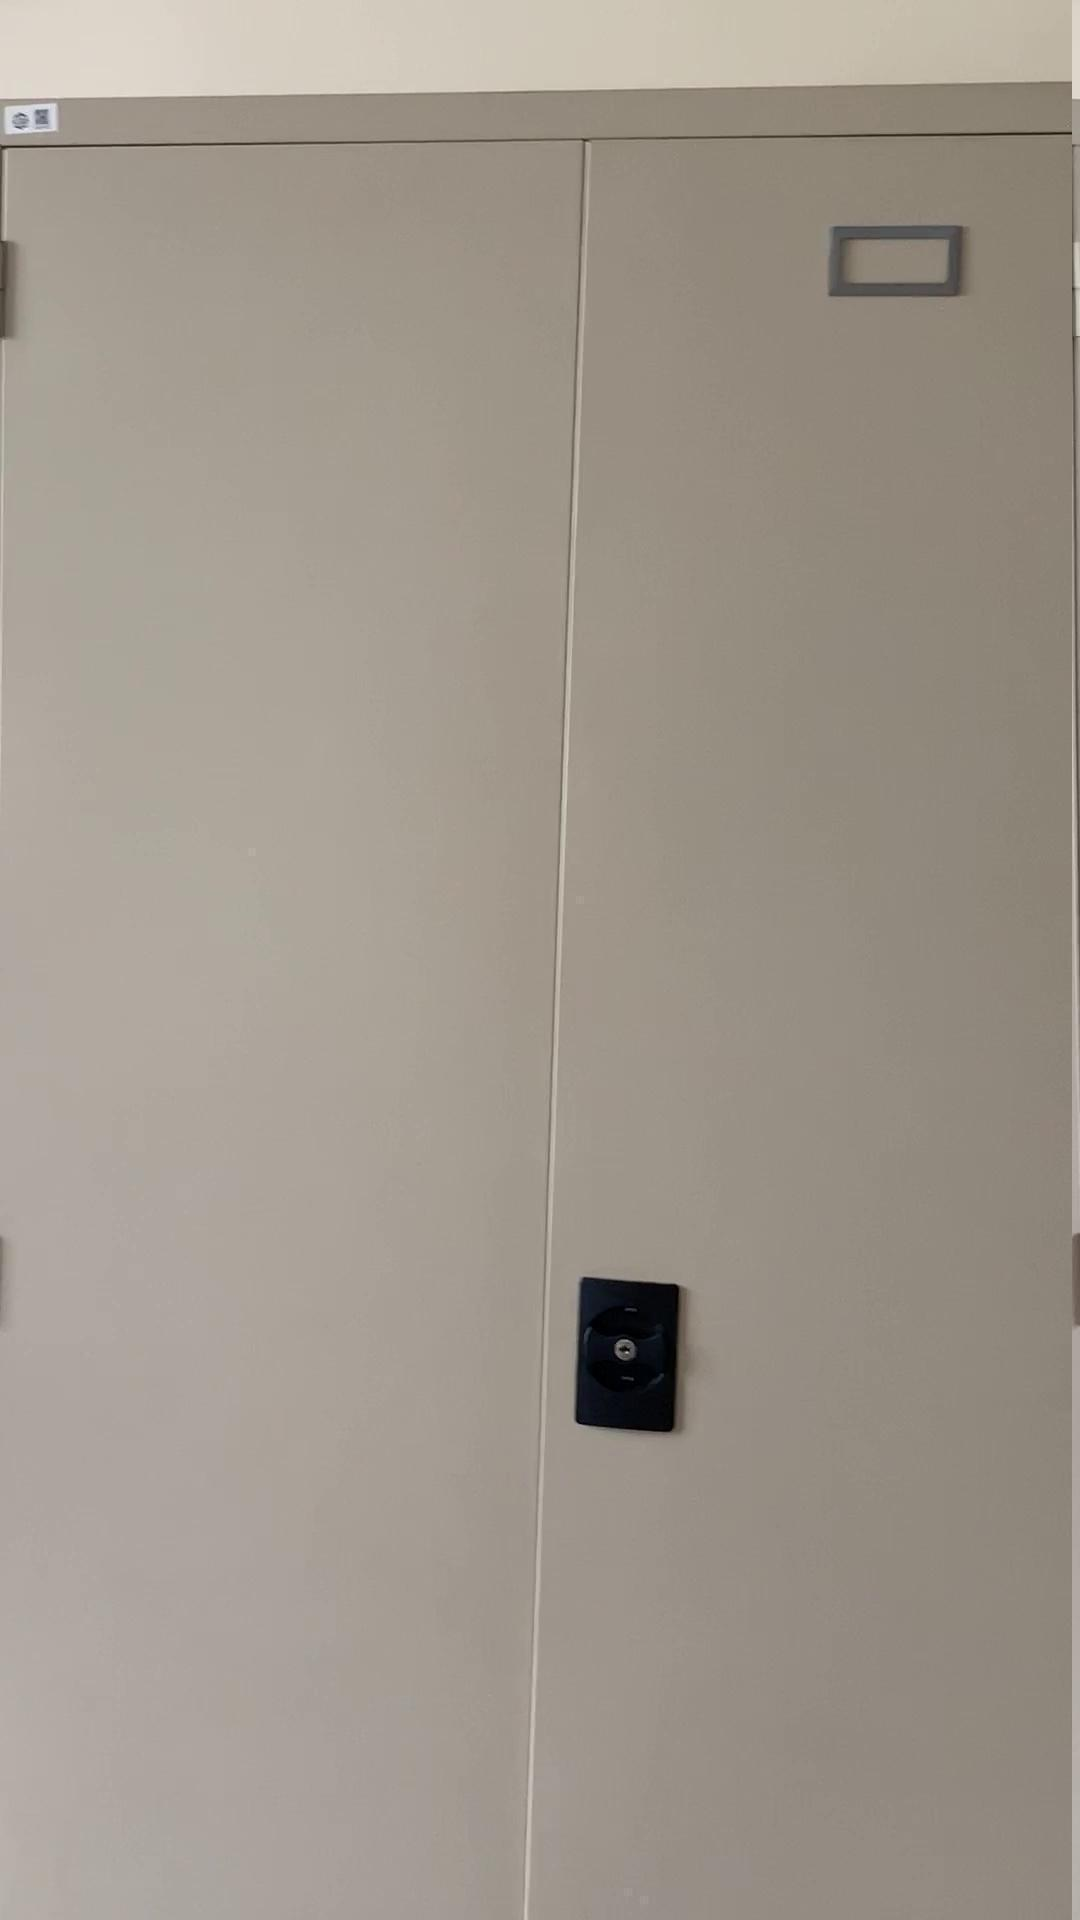Armario: (0, 83, 1060, 1902)
